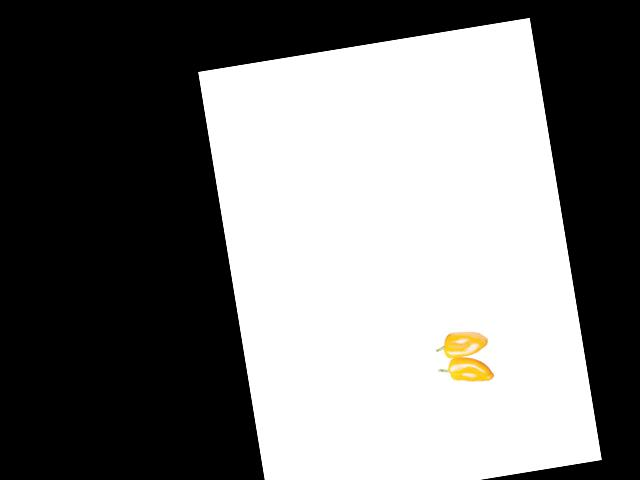bell_pepper: (431, 320, 500, 362)
